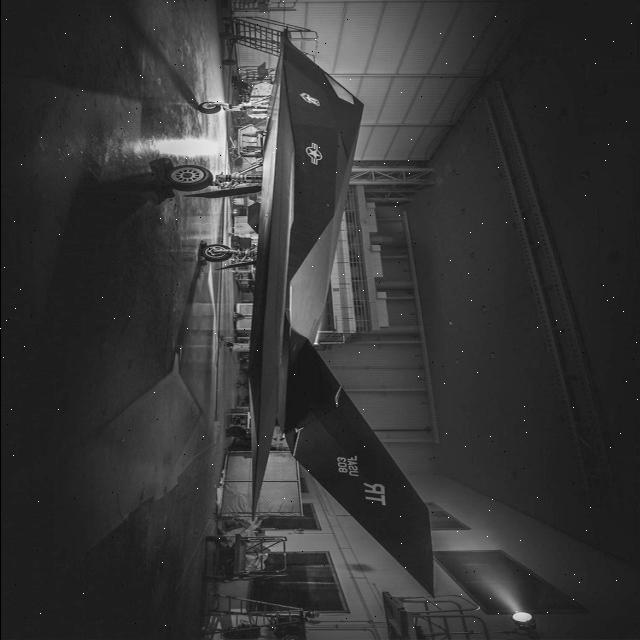F117: (137, 0, 572, 636)
